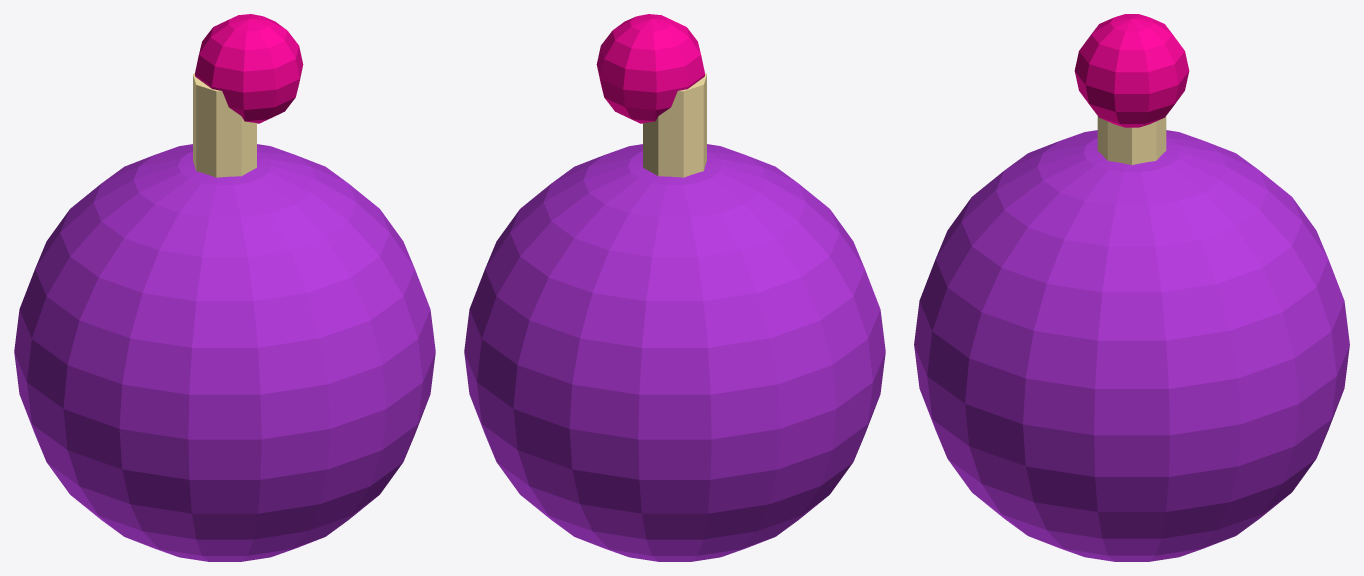
Rendered from tag_bomb.glb.
3 views of the same model, side by side, from view 1: azimuth 30°, elevation 25°; view 2: azimuth 150°, elevation 25°; view 3: azimuth 270°, elevation 25° (orthographic). The views are drawn at different scales.
Visible parts, largest first — view 1: tag_bomb; view 2: tag_bomb; view 3: tag_bomb.
Boxes of the visible parts, box(x1,y1,x2,y2) form: tag_bomb: box(14, 14, 435, 561); tag_bomb: box(464, 14, 885, 561); tag_bomb: box(914, 14, 1349, 561).
Bounding box in the file's own units: 0.7485 × 1.03 × 0.76.
